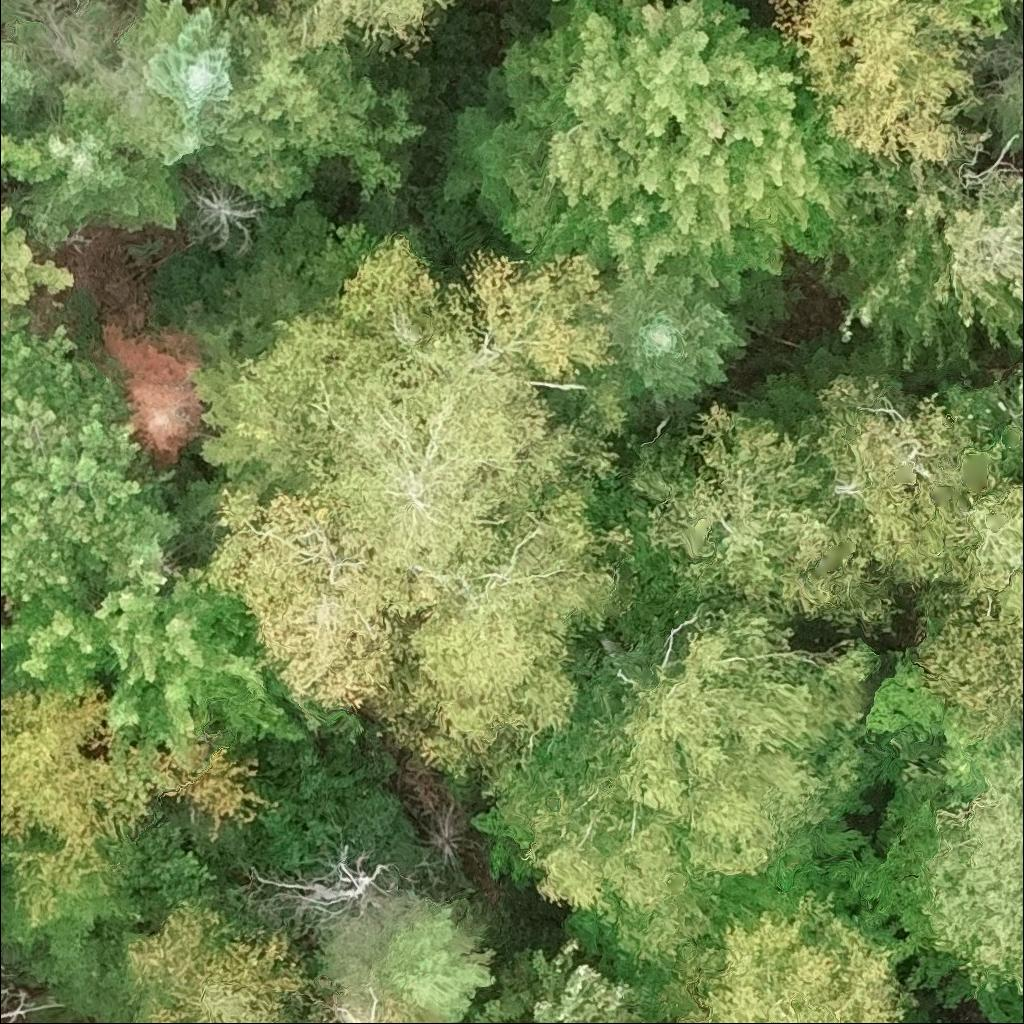crown: (230, 232, 630, 576), (542, 0, 840, 296), (563, 604, 866, 881), (375, 476, 641, 784), (0, 536, 313, 782), (0, 682, 275, 928), (608, 398, 894, 634), (493, 730, 731, 974), (0, 300, 182, 619), (181, 487, 429, 710), (828, 153, 1023, 374), (767, 0, 992, 169), (193, 3, 376, 208), (813, 367, 975, 592), (664, 885, 916, 1023), (908, 723, 1023, 1001), (17, 95, 193, 250), (110, 893, 319, 1023), (0, 863, 168, 1023), (916, 482, 1023, 732), (575, 273, 752, 407), (101, 322, 205, 470), (118, 0, 235, 127), (378, 909, 491, 1023), (507, 937, 638, 1023), (273, 0, 462, 59), (0, 204, 78, 312), (17, 117, 80, 185), (0, 39, 46, 130), (988, 46, 1023, 157), (0, 125, 46, 181), (297, 1004, 345, 1023), (374, 1003, 410, 1023), (204, 0, 260, 8), (662, 0, 677, 6), (548, 0, 564, 5), (437, 1021, 452, 1023)
